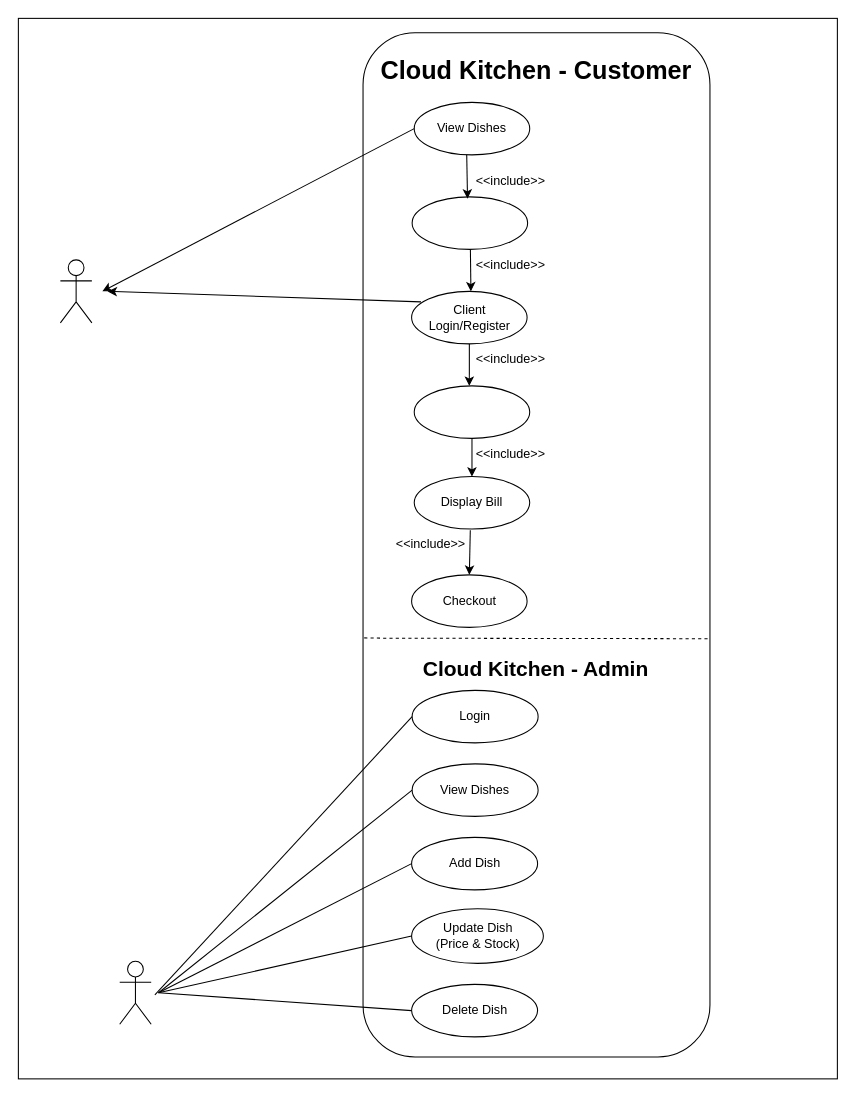
Image size: 856x1097. Some labels were removed from this diagram. The shapes that lost their labels are listed below. From the top down, each one's centre as x and y in pixels, then its label:
[469,222]: Add to Cart
[75,291]: Web Customer
[471,411]: Edit Address
[135,992]: Staff
